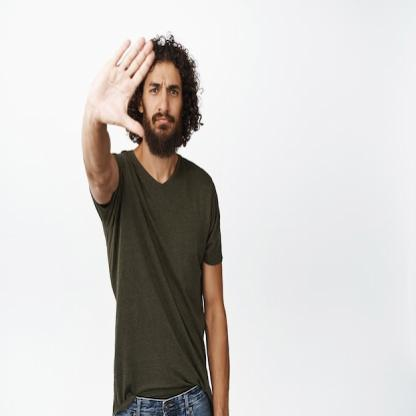stop: (84, 31, 155, 142)
